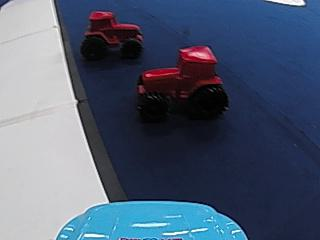Tracktor: (130, 44, 230, 120), (81, 8, 144, 60)
